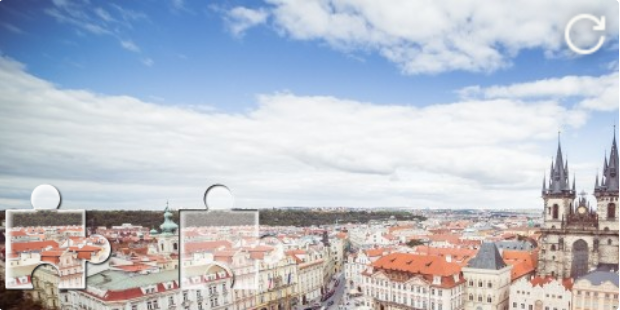target: (179, 183, 284, 289)
